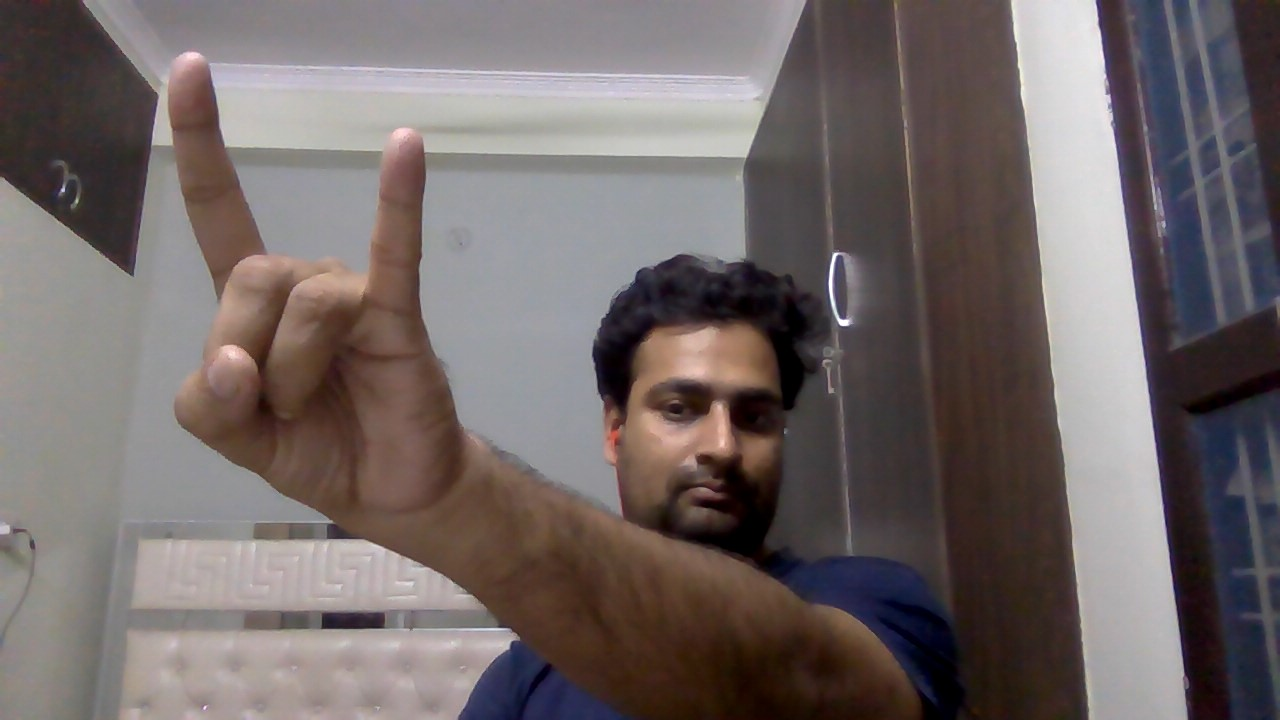Select All: (144, 42, 478, 542)
